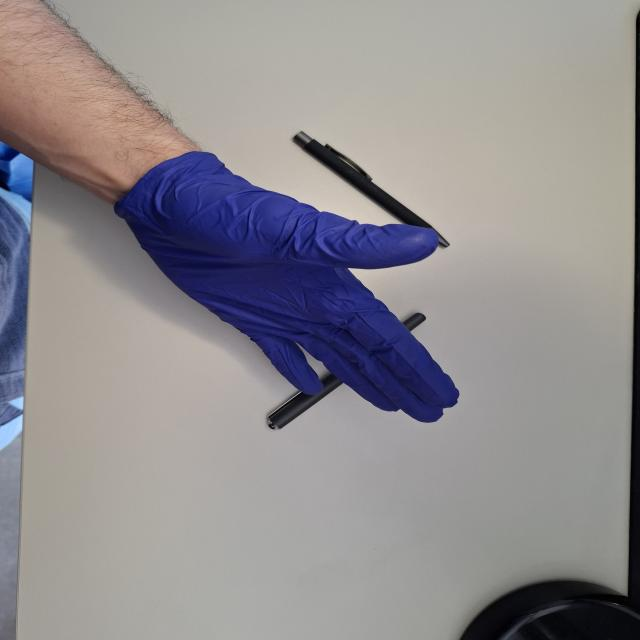glove_on: (113, 145, 463, 426)
